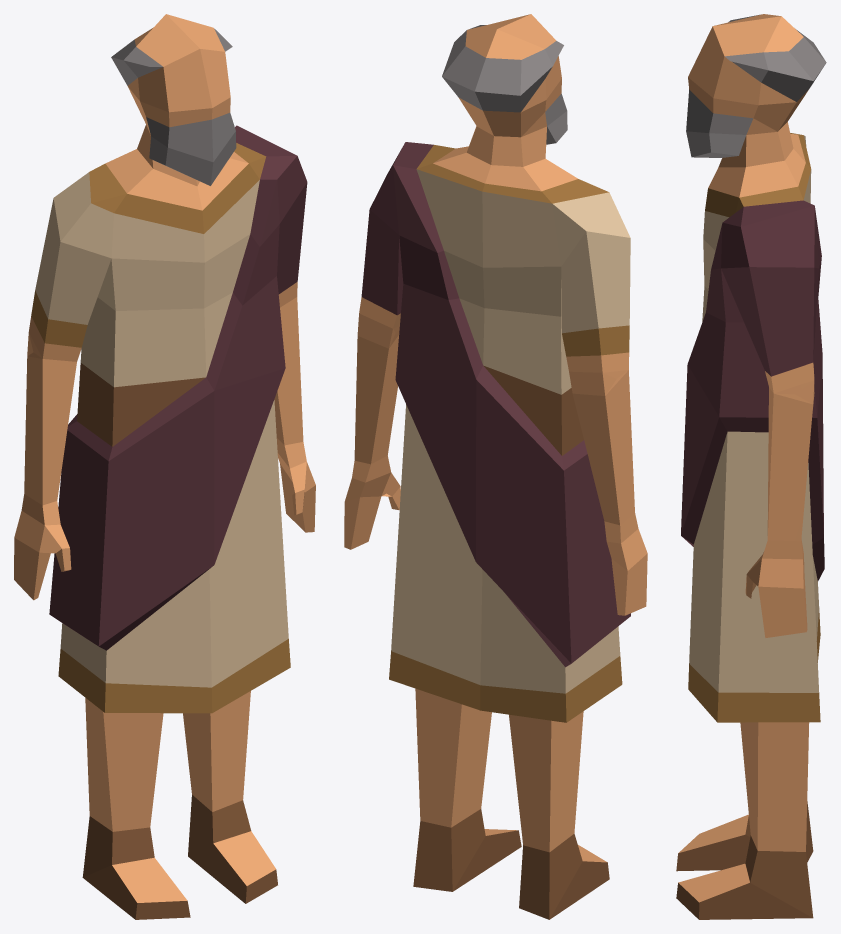
File: SM_Man_Old_Empire.fbx
3 renders of one model, left to right at view 1: azimuth 30°, elevation 25°; view 2: azimuth 150°, elevation 25°; view 3: azimuth 270°, elevation 25°, orthographic.
Visible parts, largest first — view 1: SM_Man_Old_Empire; view 2: SM_Man_Old_Empire; view 3: SM_Man_Old_Empire.
Part boxes in pixels (x1,y1,x2,y2): SM_Man_Old_Empire: (14,14,315,919); SM_Man_Old_Empire: (344,14,647,919); SM_Man_Old_Empire: (676,14,826,919).
Bounding box in the file's own units: 0.6147 × 1.79 × 0.2806.
